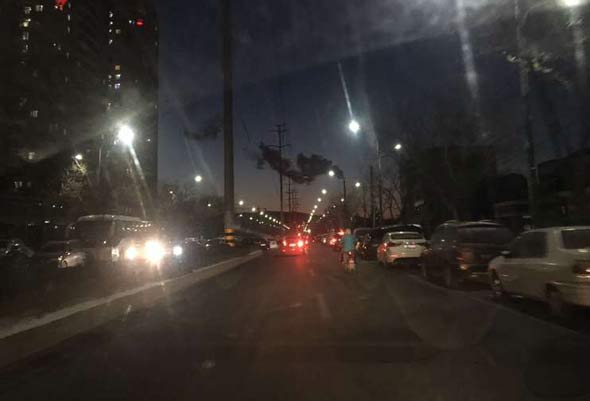dust: (292, 148, 352, 183)
